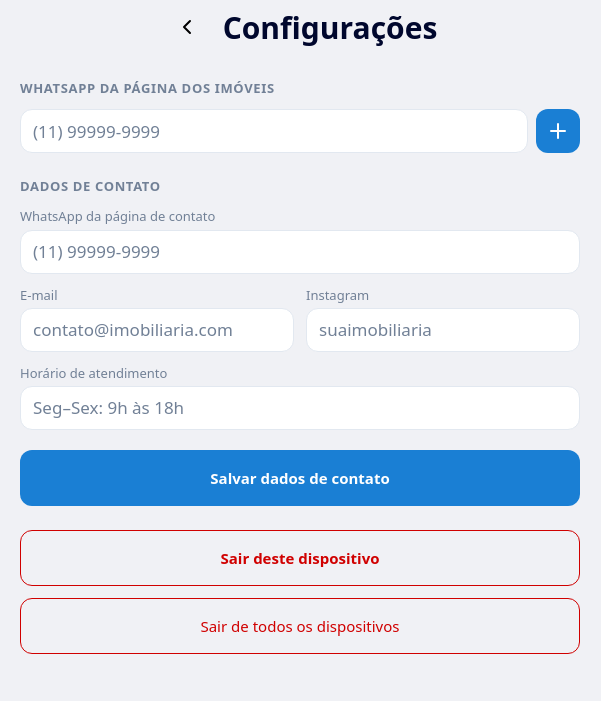
Scenario: Settings › rejects a whatsapp number outside the 8-15 digit range when adding a new one
The image size is (601, 701).
Type "123" into the field with placeholder "(11) 99999-9999" below "WhatsApp da página dos imóveis" at [274, 131], box [20,109,528,153]
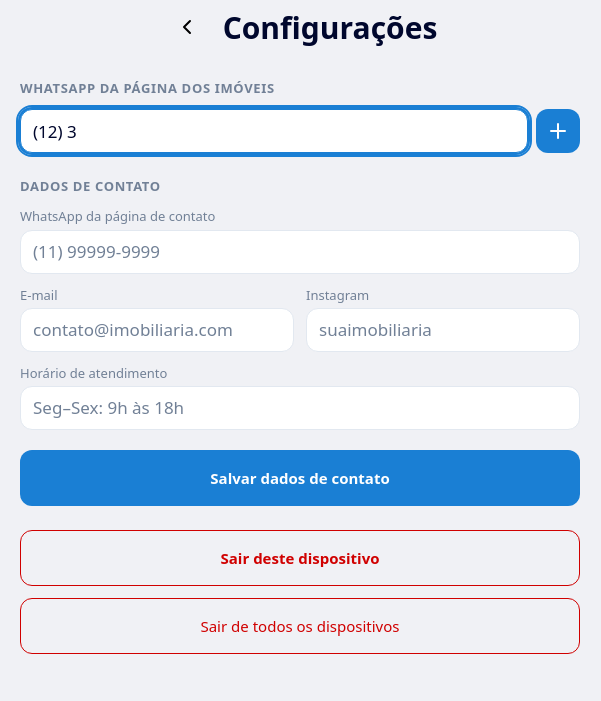
Click the button named "Adicionar número" at [558, 131], box [536,109,580,153]
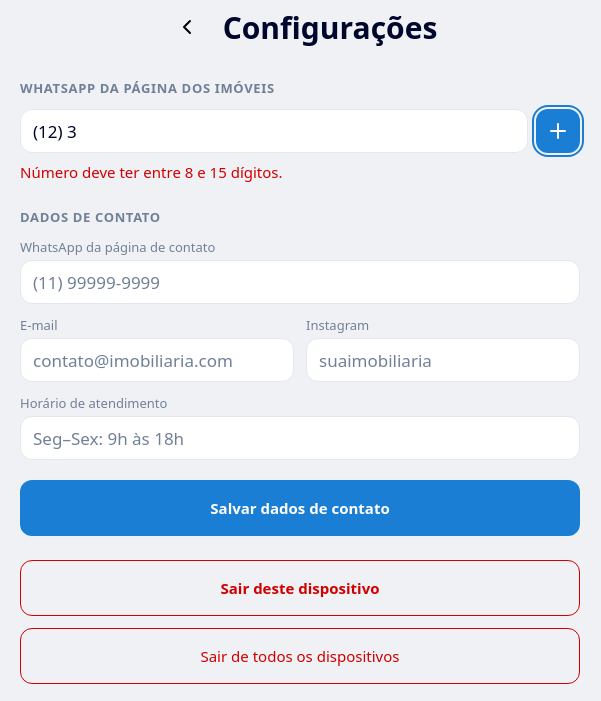
Expected: the text "Número deve ter entre 8 e 15 dígitos." is shown, [20,162,282,182]
